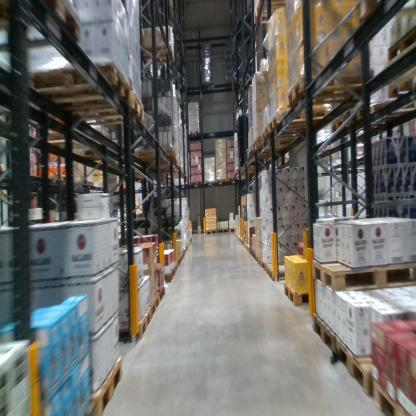pallet: (31, 87, 151, 128), (25, 63, 136, 107), (308, 249, 416, 294), (2, 0, 86, 52), (285, 68, 372, 109), (336, 334, 376, 404), (83, 354, 124, 415), (27, 124, 89, 158), (370, 370, 411, 414), (109, 305, 152, 343), (349, 98, 414, 122), (269, 105, 327, 131), (384, 62, 415, 104), (387, 24, 415, 70), (313, 312, 337, 356), (254, 135, 316, 151), (131, 147, 180, 166), (139, 45, 181, 66), (284, 282, 316, 306), (262, 123, 316, 137), (81, 143, 110, 164), (266, 261, 292, 283), (326, 113, 349, 137), (248, 147, 283, 162), (231, 164, 265, 175), (42, 173, 71, 183), (149, 292, 159, 319), (257, 254, 268, 273), (157, 286, 165, 309), (160, 270, 173, 283), (227, 177, 251, 183), (190, 178, 202, 188), (216, 227, 230, 235), (189, 131, 201, 140), (203, 178, 216, 185), (83, 180, 94, 188), (215, 176, 227, 183), (206, 229, 217, 235), (229, 226, 236, 232), (254, 251, 257, 262), (252, 251, 255, 261), (250, 246, 253, 255)
